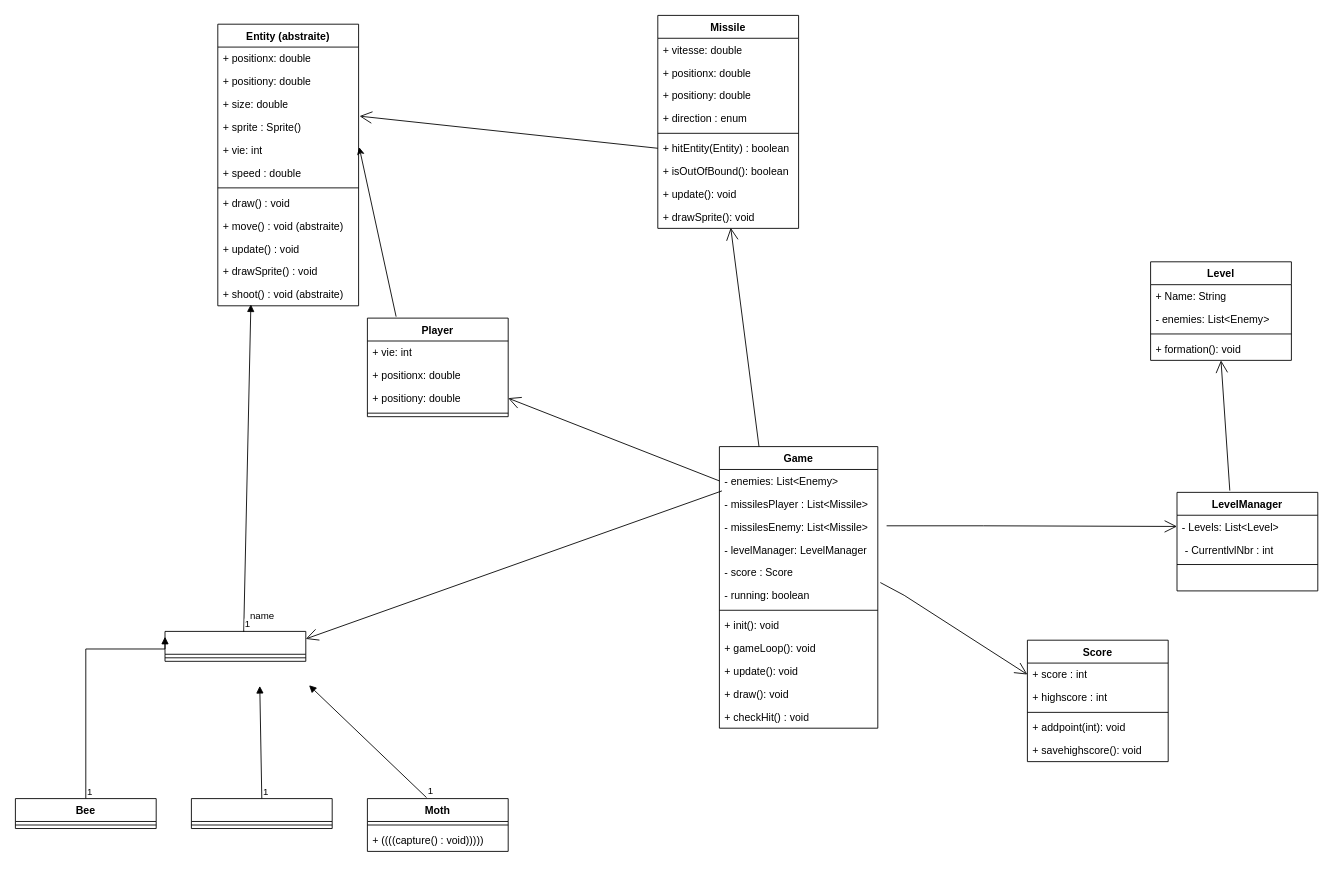
Image size: 1333x869. Some labels were removed from this diagram. The shapes that lost their labels are listed below. From the top down, each one's centre as x and y in pixels, then its label:
At [235,646]: "Enemy (abstraite)".
At [261,813]: "Butterfly".
